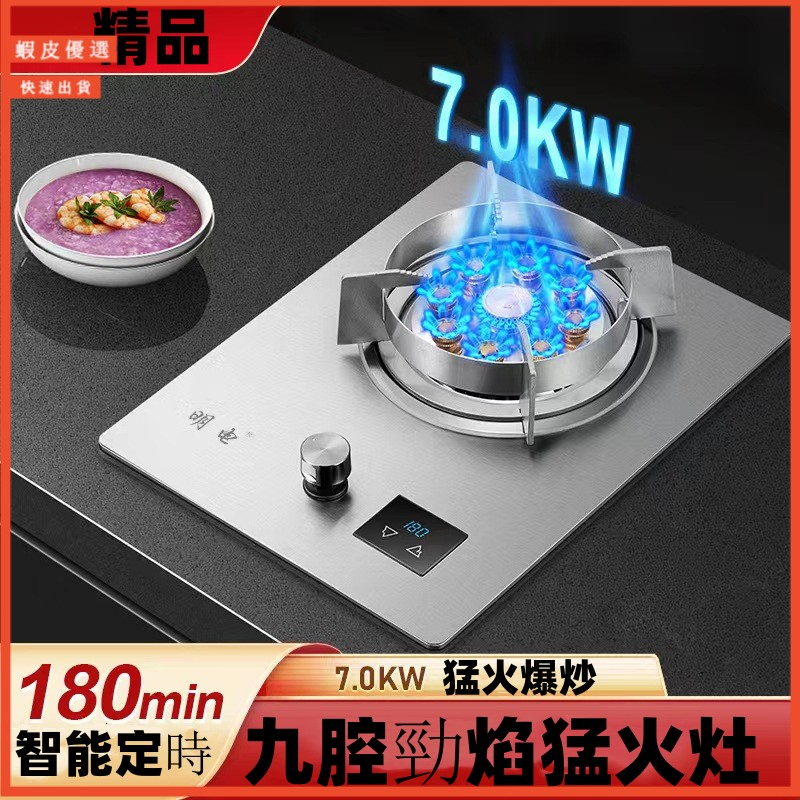gasoven: (91, 141, 789, 654)
